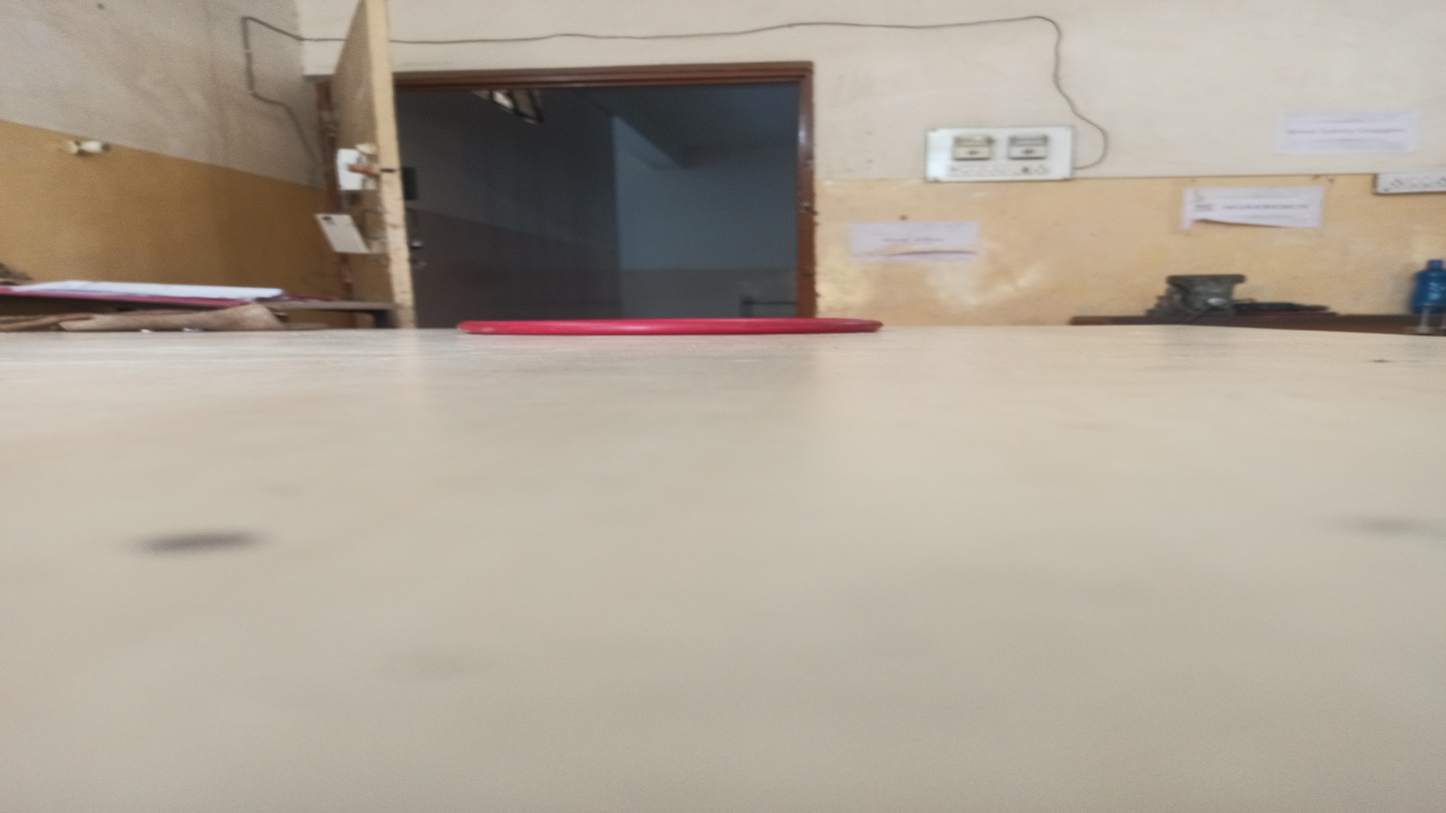Red ring: (460, 318, 887, 333)
